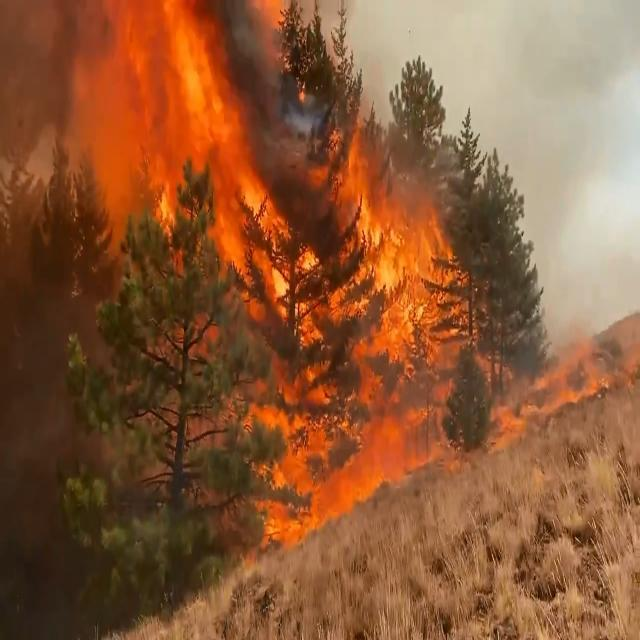Fire: (73, 0, 611, 547)
